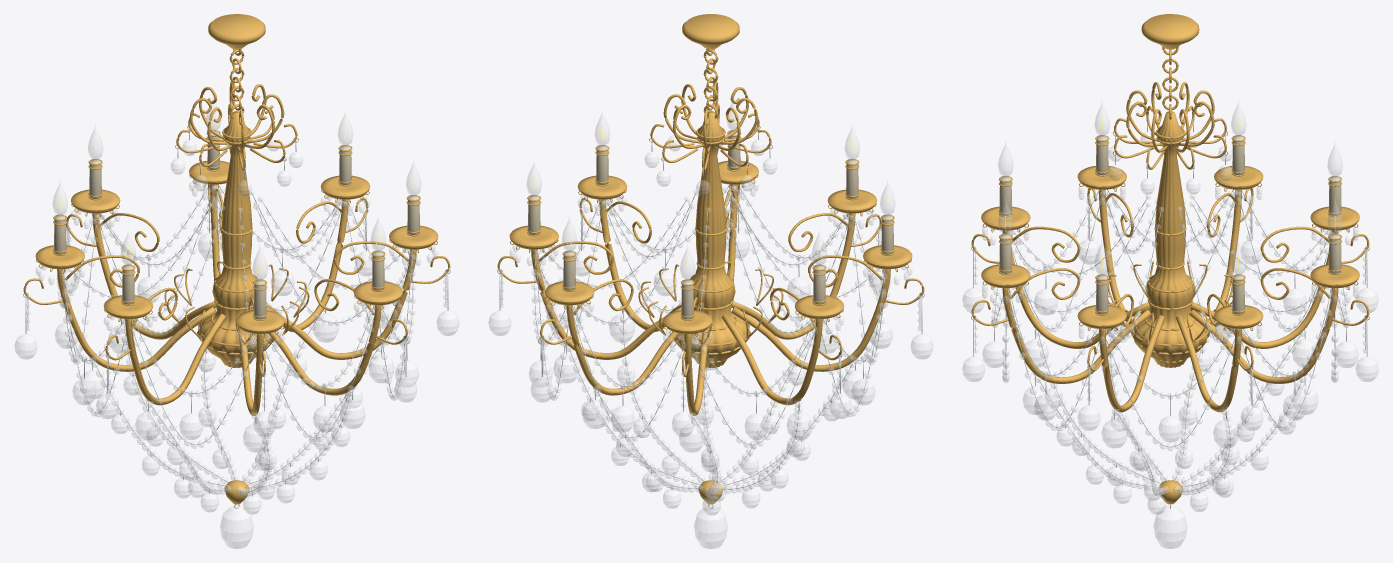
File: avize.glb
3 renders of one model, left to right at view 1: azimuth 30°, elevation 25°; view 2: azimuth 150°, elevation 25°; view 3: azimuth 270°, elevation 25°, orthographic.
Parts seen in each view (by area): view 1: Fasetli kristal boncuklar ve sarkitlar, Altin govde ve kivrimli kollar, Ince metal baglanti halkalari, Mum duy kiliflari, Sekiz alev bicimli ampul, Kabartma yapraklar ve yivler; view 2: Altin govde ve kivrimli kollar, Fasetli kristal boncuklar ve sarkitlar, Ince metal baglanti halkalari, Mum duy kiliflari, Sekiz alev bicimli ampul, Kabartma yapraklar ve yivler; view 3: Altin govde ve kivrimli kollar, Fasetli kristal boncuklar ve sarkitlar, Ince metal baglanti halkalari, Mum duy kiliflari, Sekiz alev bicimli ampul.
Boxes of the visible parts, x1,y1,x2,y2 form: Fasetli kristal boncuklar ve sarkitlar: (14,135,459,548); Altin govde ve kivrimli kollar: (23,14,450,504); Ince metal baglanti halkalari: (23,117,450,508); Mum duy kiliflari: (54,130,419,319); Sekiz alev bicimli ampul: (52,96,421,280); Kabartma yapraklar ve yivler: (60,196,338,403); Altin govde ve kivrimli kollar: (497,14,924,504); Fasetli kristal boncuklar ve sarkitlar: (488,135,933,548); Ince metal baglanti halkalari: (497,117,924,508); Mum duy kiliflari: (528,130,893,319); Sekiz alev bicimli ampul: (526,96,895,280); Kabartma yapraklar ve yivler: (533,185,730,413); Altin govde ve kivrimli kollar: (971,14,1369,504); Fasetli kristal boncuklar ve sarkitlar: (962,132,1378,548); Ince metal baglanti halkalari: (971,118,1369,508); Mum duy kiliflari: (999,135,1341,314); Sekiz alev bicimli ampul: (998,99,1342,275).
Size of the model in its own units: 0.782 by 1.09 by 0.7831.
